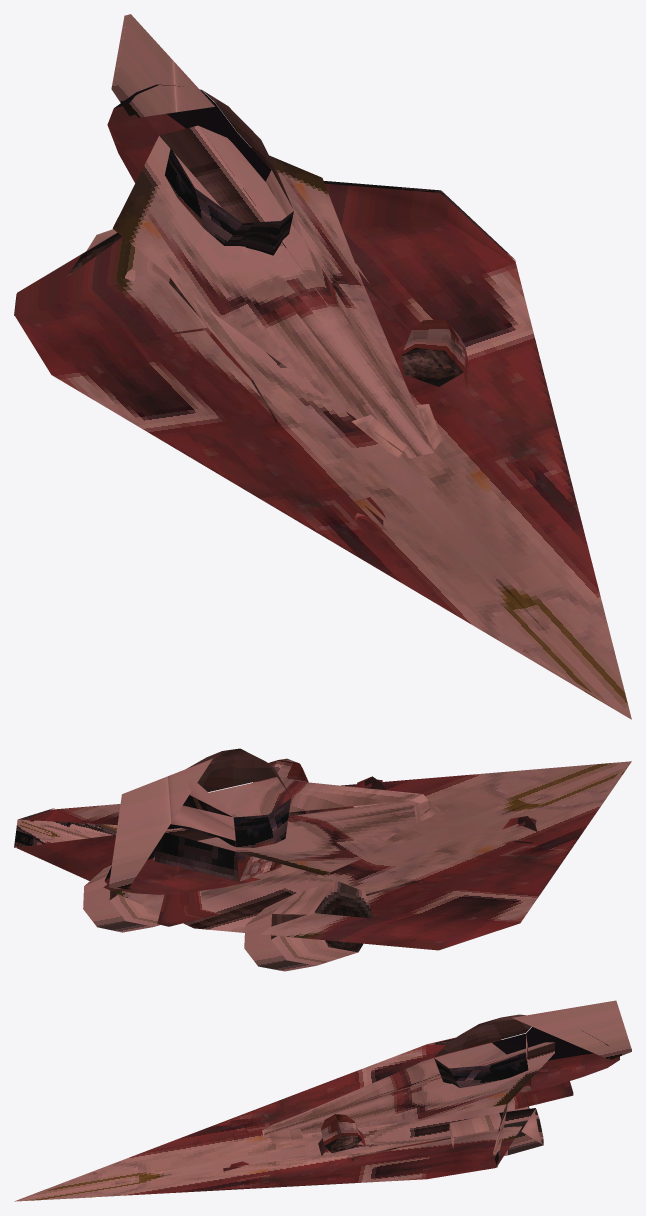
Rendered from ps2_save-icons_swjedistarfighter.glb.
3 renders of one model, top to bottom at view 1: azimuth 30°, elevation 25°; view 2: azimuth 150°, elevation 25°; view 3: azimuth 270°, elevation 25°, orthographic. The views are drawn at different scales.
Parts seen in each view (by area): view 1: icon.icon; view 2: icon.icon; view 3: icon.icon.
Boxes of the visible parts, x1,y1,x2,y2 form: icon.icon: [14, 14, 631, 719]; icon.icon: [14, 748, 631, 971]; icon.icon: [14, 1000, 631, 1201].
Bounding box in the file's own units: 2.37 × 1.64 × 4.57.
1 material, 1 textured.
